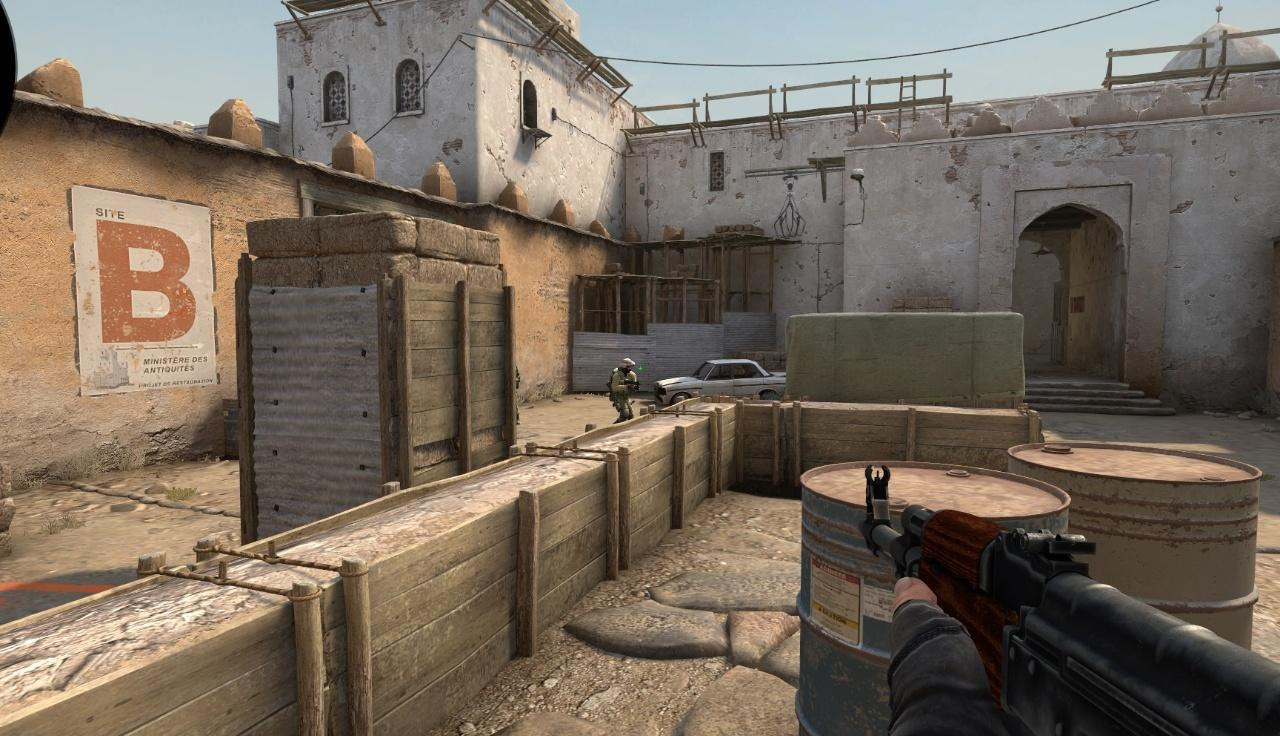ct: (609, 358, 636, 423)
cthead: (621, 358, 633, 373)
rifle: (860, 466, 1280, 736)
